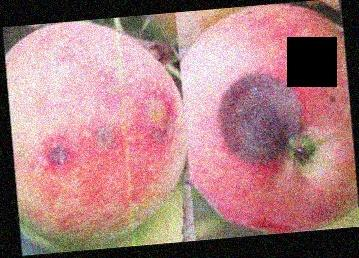rotten apple: (12, 20, 184, 247), (184, 5, 351, 233)
